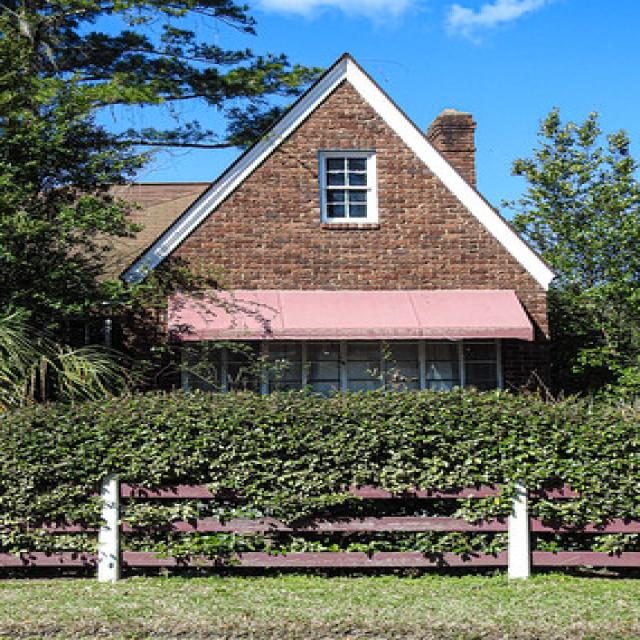building: (25, 51, 602, 493)
